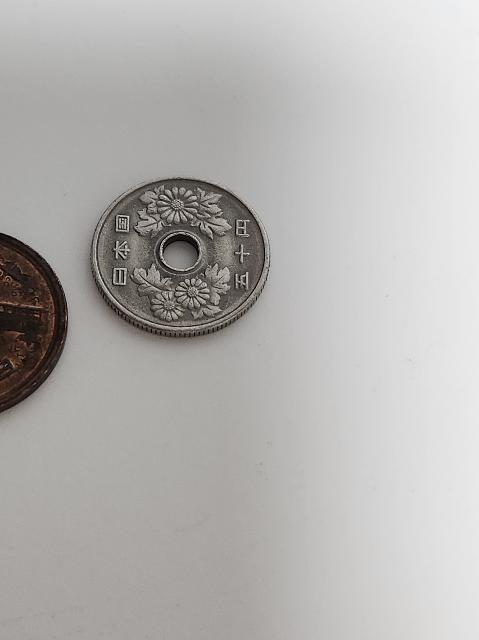coin: (86, 178, 274, 338)
